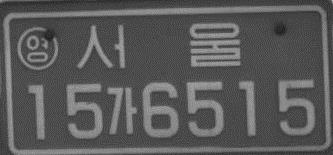1: (24, 81, 51, 142), (237, 76, 259, 137)
5: (275, 76, 315, 137), (185, 78, 225, 138), (64, 81, 103, 140)
6: (141, 80, 180, 138)
가: (106, 84, 137, 135)
서울_D: (74, 19, 244, 71)
영: (16, 25, 59, 71)
